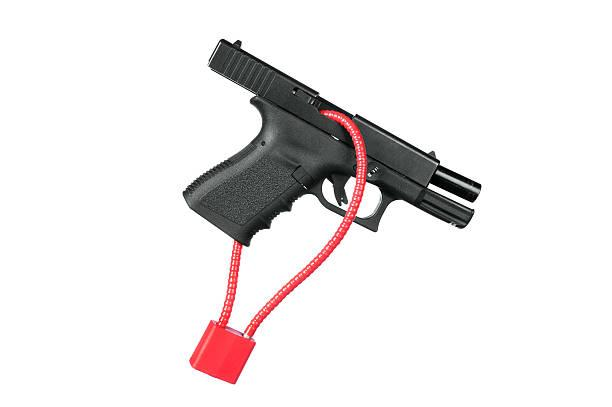weapon: (180, 35, 488, 248)
